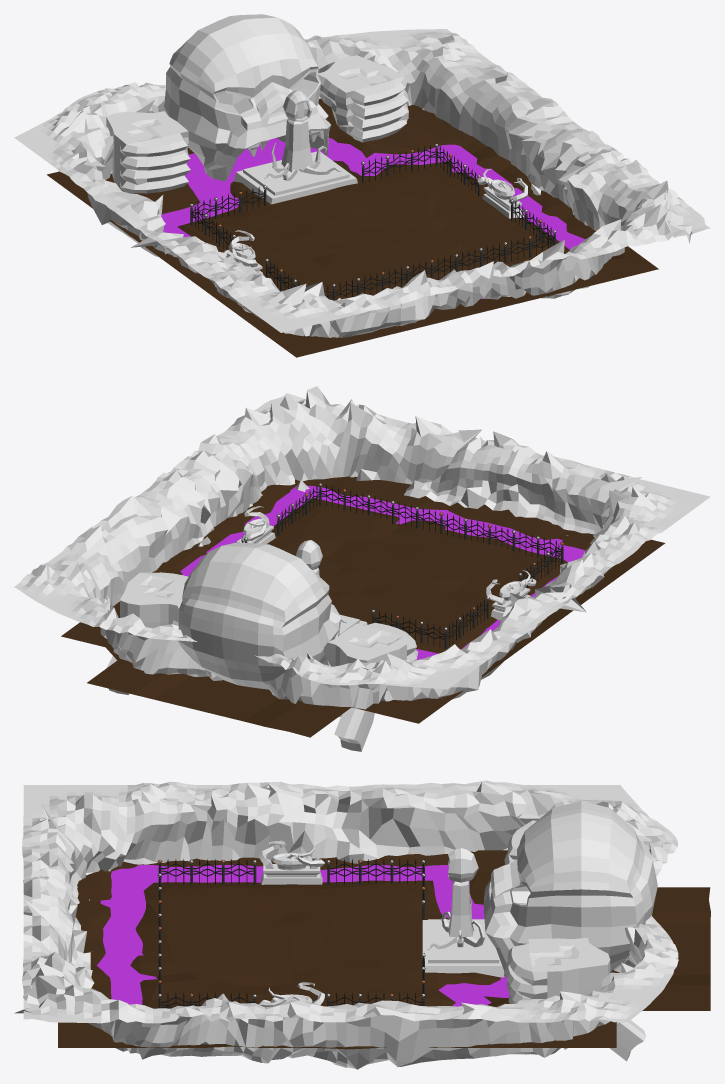
The model's file is Arena New_Final.fbx.
3 renders of one model, top to bottom at view 1: azimuth 30°, elevation 25°; view 2: azimuth 150°, elevation 25°; view 3: azimuth 270°, elevation 25°, orthographic. The views are drawn at different scales.
Visible parts, largest first — view 1: Walls, Ground, Skull, Fists, Slime, Fence_TopBottom, Plinth, SldqhThss, Brazier; view 2: Walls, Ground, Skull, Fists, Fence_TopBottom, Slime, Brazier, SldqhThss; view 3: Walls, Ground, Skull, Slime, Fists, Fence_TopBottom, Plinth, Brazier, SldqhThss.
Boxes of the visible parts, x1,y1,x2,y2 form: Walls: (14, 29, 710, 337); Ground: (47, 98, 658, 357); Skull: (164, 14, 330, 181); Fists: (106, 55, 408, 193); Slime: (161, 138, 584, 298); Fence_TopBottom: (189, 143, 556, 300); Plinth: (233, 151, 357, 204); SldqhThss: (264, 90, 340, 180); Brazier: (224, 168, 527, 274); Walls: (14, 386, 710, 717); Ground: (61, 476, 665, 737); Skull: (177, 542, 341, 689); Fists: (106, 572, 418, 751); Fence_TopBottom: (239, 483, 563, 649); Slime: (180, 485, 585, 659); Brazier: (236, 506, 536, 620); SldqhThss: (296, 540, 346, 623); Walls: (14, 780, 678, 1069); Ground: (58, 850, 710, 1049); Skull: (483, 801, 657, 971); Slime: (96, 865, 509, 1006); Fists: (504, 820, 646, 1061); Fence_TopBottom: (157, 858, 425, 1008); Plinth: (422, 919, 504, 977); Brazier: (258, 841, 324, 1007); SldqhThss: (427, 848, 485, 949).
Size of the model in its own units: 221 by 75.12 by 265.
